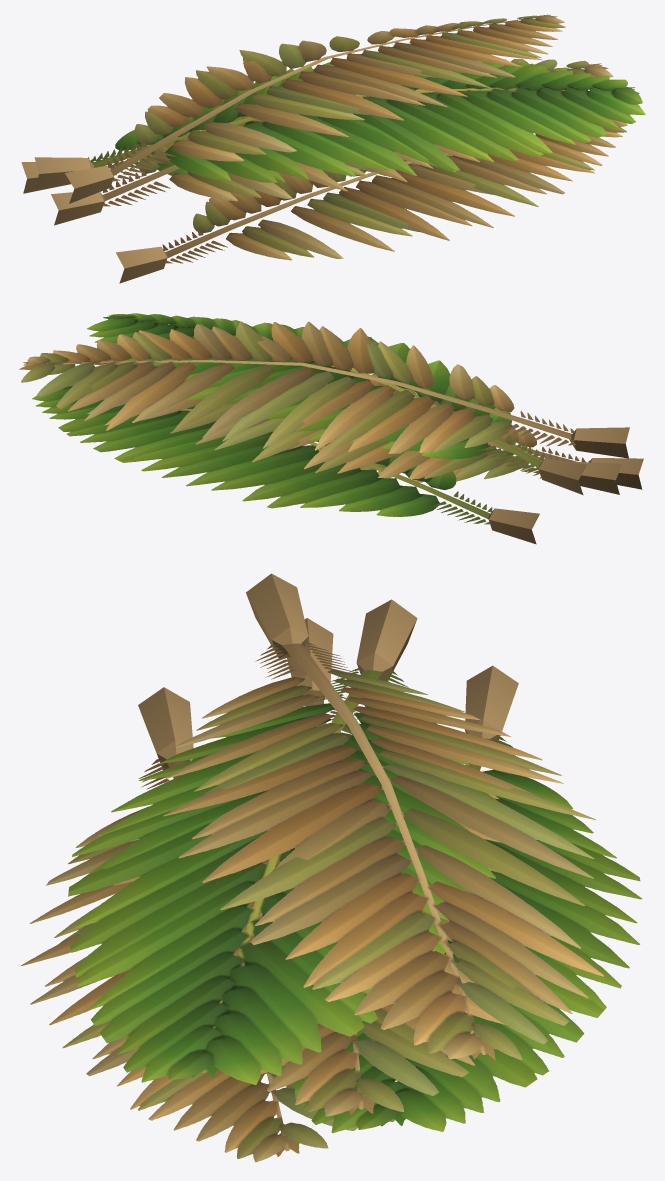
The model's file is pile_fronds.glb.
3 renders of one model, top to bottom at view 1: azimuth 30°, elevation 25°; view 2: azimuth 150°, elevation 25°; view 3: azimuth 270°, elevation 25°, orthographic. The views are drawn at different scales.
Visible parts, largest first — view 1: pile_fronds_mesh; view 2: pile_fronds_mesh; view 3: pile_fronds_mesh.
Part boxes in pixels (x1,y1,x2,y2): pile_fronds_mesh: (21, 14, 645, 283); pile_fronds_mesh: (19, 313, 643, 544); pile_fronds_mesh: (21, 573, 642, 1162).
Size of the model in its own units: 2.78 by 0.4886 by 1.62.
Materials: 3 (2 with a texture image).
